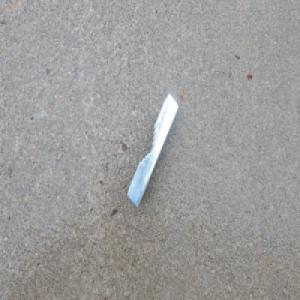ClampPart: (127, 93, 179, 209)
